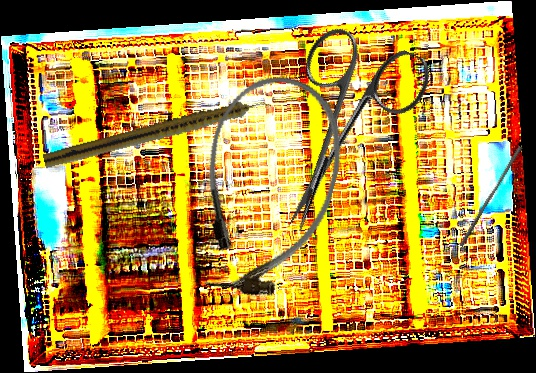Cannula: (176, 62, 359, 311)
Handpiece: (42, 93, 273, 174)
Iris Scissors: (240, 15, 438, 255)
Pusher: (458, 143, 524, 250)
